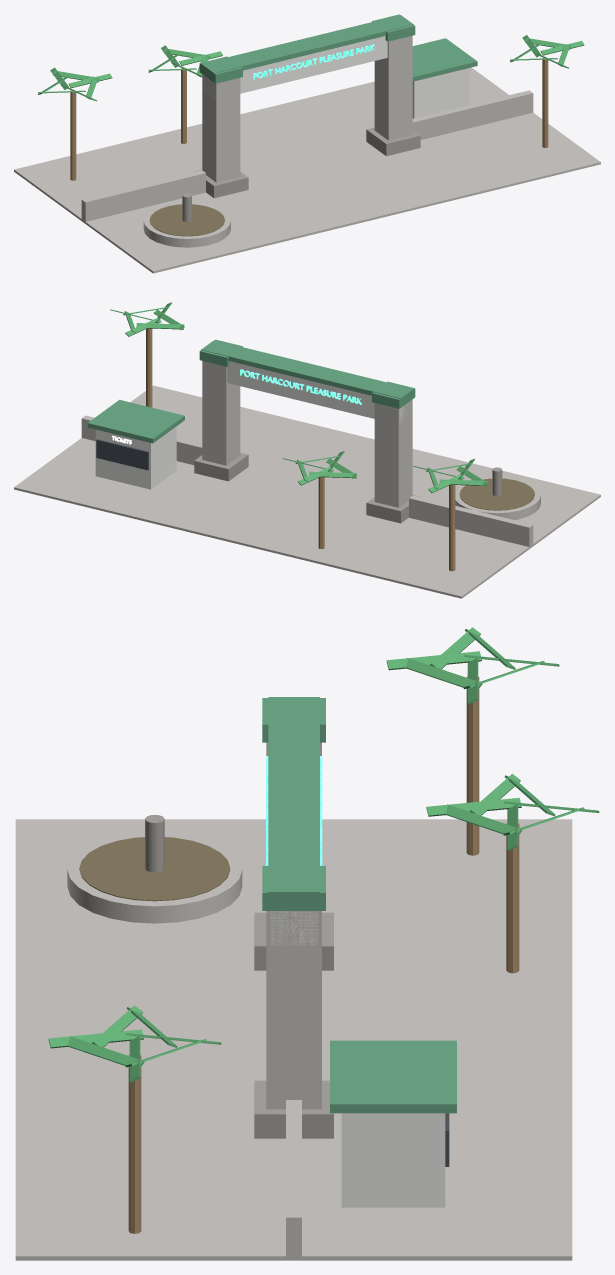
Rendered from ph_pleasure_gate.glb.
3 views of the same model, one above another, from view 1: azimuth 30°, elevation 25°; view 2: azimuth 150°, elevation 25°; view 3: azimuth 270°, elevation 25° (orthographic). The views are drawn at different scales.
Parts seen in each view (by area): view 1: PH_ph_pleasure_gate; view 2: PH_ph_pleasure_gate; view 3: PH_ph_pleasure_gate.
Boxes of the visible parts, x1,y1,x2,y2 form: PH_ph_pleasure_gate: (14,14,600,273); PH_ph_pleasure_gate: (14,302,600,598); PH_ph_pleasure_gate: (15,627,599,1260).
Size of the model in its own units: 26.74 by 6.88 by 14.67.
